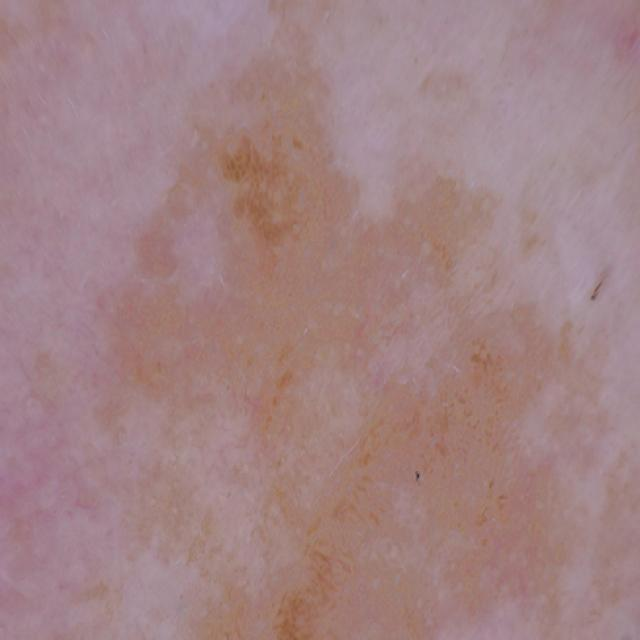Keratosis: (180, 35, 395, 292), (226, 550, 424, 640)
